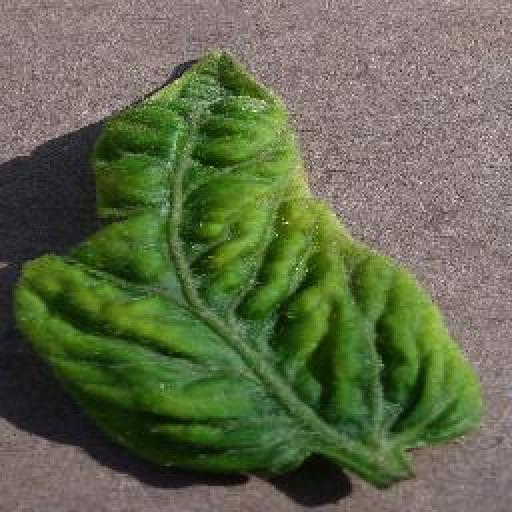disease_tomato: (10, 46, 484, 474)
